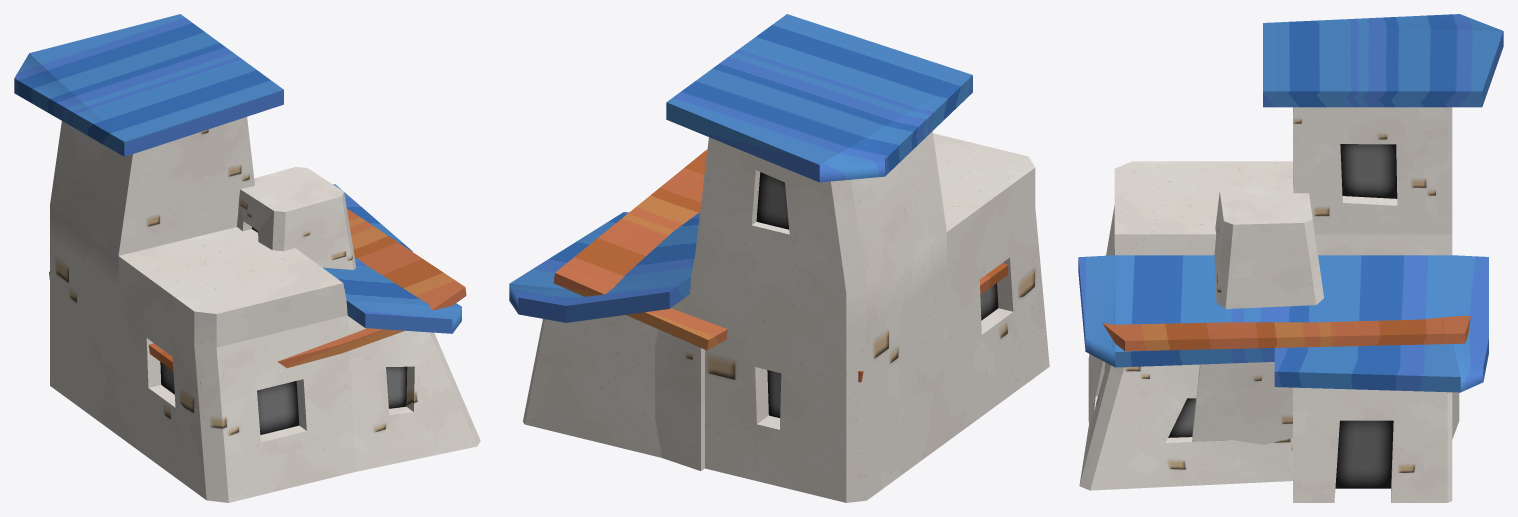
Rendered from Houses.fbx.
The picture shows the model from 3 angles, left to right: view 1: azimuth 30°, elevation 25°; view 2: azimuth 150°, elevation 25°; view 3: azimuth 270°, elevation 25°; orthographic projection. The views are drawn at different scales.
Visible parts, largest first — view 1: House_04, House_03; view 2: House_04, House_03; view 3: House_04, House_03.
Boxes of the visible parts, box(x1,y1,x2,y2) form: House_04: box(14, 14, 480, 502); House_03: box(49, 167, 466, 384); House_04: box(509, 14, 1049, 502); House_03: box(553, 149, 1008, 470); House_04: box(1078, 14, 1503, 502); House_03: box(1102, 185, 1470, 444).
Size of the model in its own units: 19.99 by 19.01 by 21.54.
